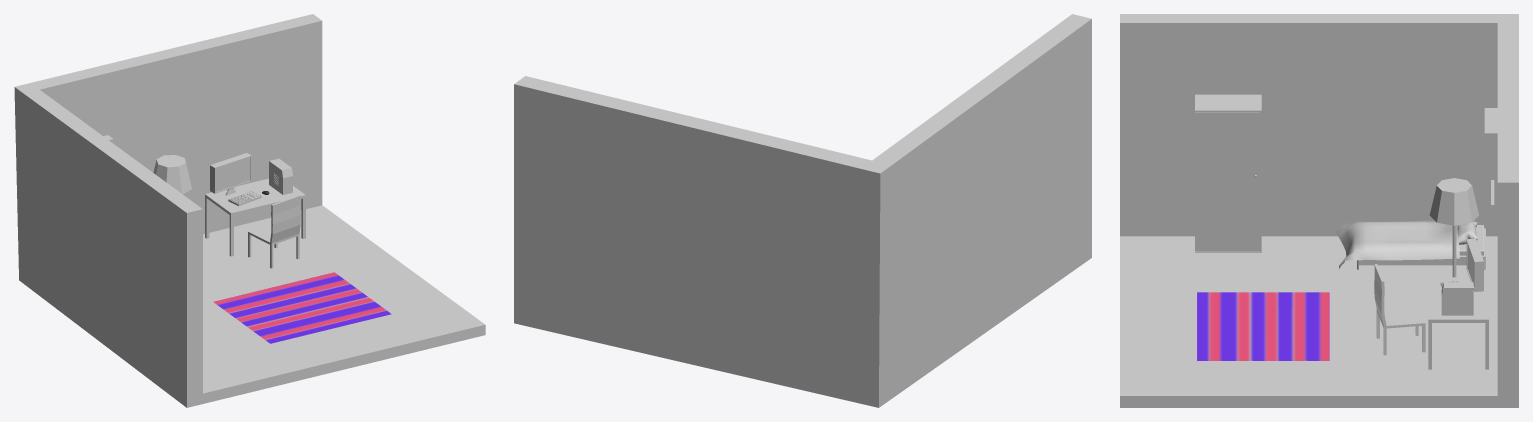
Rendered from room.fbx.
3 renders of one model, left to right at view 1: azimuth 30°, elevation 25°; view 2: azimuth 150°, elevation 25°; view 3: azimuth 270°, elevation 25°, orthographic. The views are drawn at different scales.
Visible parts, largest first — view 1: oda, taban, Plane, masa, sandalye, lamba, monitor_ekran, kasa, monitor; view 2: oda; view 3: oda, taban, dolap, Plane, battaniye, poster, lamba, masa, sandalye, kasa, yatak, cam_dis (+2 smaller).
Boxes of the visible parts, left/top/right/bottom form: oda: left=14, top=14, right=485, bottom=407; taban: left=203, top=205, right=484, bottom=393; Plane: left=213, top=272, right=391, bottom=343; masa: left=205, top=178, right=305, bottom=256; sandalye: left=248, top=195, right=300, bottom=245; lamba: left=153, top=155, right=191, bottom=194; monitor_ekran: left=216, top=157, right=249, bottom=191; kasa: left=269, top=158, right=292, bottom=194; monitor: left=210, top=153, right=251, bottom=195; oda: left=514, top=14, right=1091, bottom=407; oda: left=1120, top=14, right=1518, bottom=407; taban: left=1120, top=236, right=1497, bottom=395; dolap: left=1195, top=94, right=1261, bottom=252; Plane: left=1197, top=292, right=1329, bottom=360; battaniye: left=1335, top=220, right=1459, bottom=268; poster: left=1330, top=116, right=1370, bottom=172; lamba: left=1429, top=178, right=1478, bottom=277; masa: left=1428, top=277, right=1488, bottom=369; sandalye: left=1374, top=264, right=1425, bottom=328; kasa: left=1441, top=282, right=1473, bottom=315; yatak: left=1357, top=225, right=1485, bottom=269; cam_dis: left=1484, top=108, right=1497, bottom=209.
Size of the model in its own units: 400 by 250 by 400.
